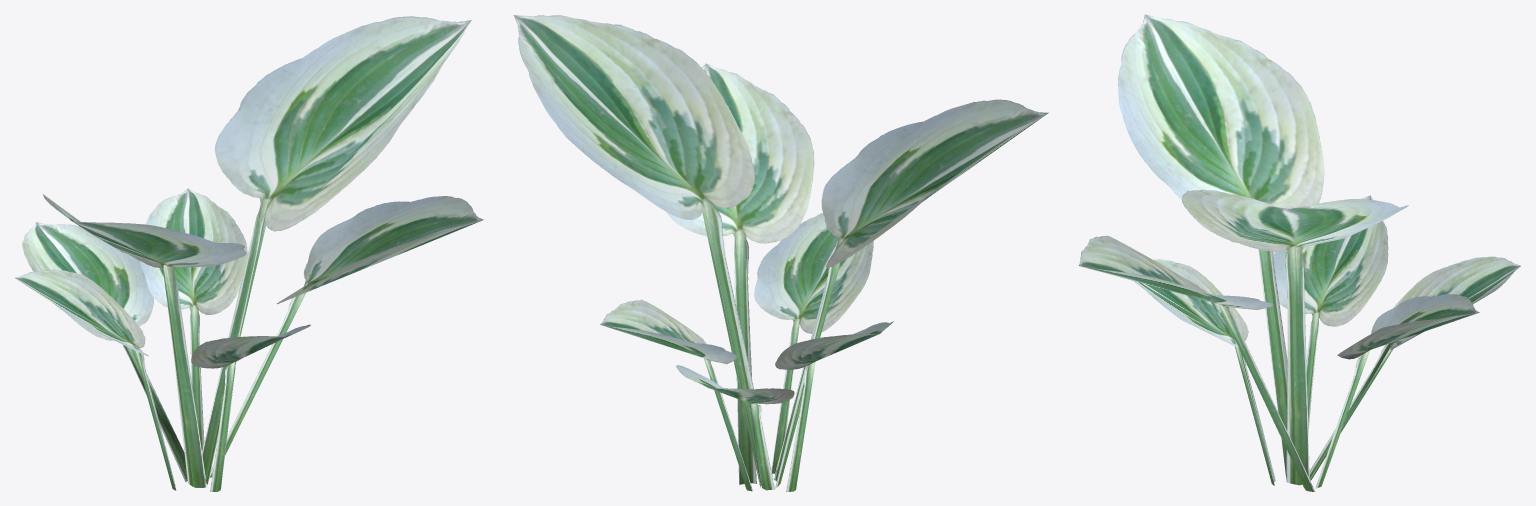
The model's file is plant_small_wg_01.fbx.
3 views of the same model, side by side, from view 1: azimuth 30°, elevation 25°; view 2: azimuth 150°, elevation 25°; view 3: azimuth 270°, elevation 25° (orthographic).
Parts seen in each view (by area): view 1: plant_small_wg_01; view 2: plant_small_wg_01; view 3: plant_small_wg_01.
Part boxes in pixels (left/top/right/bottom): plant_small_wg_01: left=15, top=16, right=483, bottom=491; plant_small_wg_01: left=513, top=15, right=1048, bottom=491; plant_small_wg_01: left=1078, top=14, right=1520, bottom=491.
Size of the model in its own units: 109 by 89.57 by 89.49.
